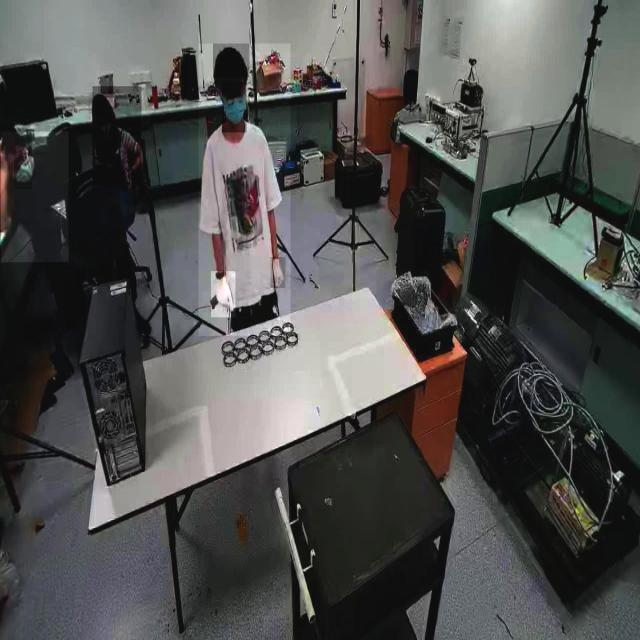face_mask: (222, 82, 246, 132), (14, 138, 32, 189)
face_nomask: (99, 118, 112, 138)
hand_glove: (210, 271, 236, 318), (270, 257, 286, 289)
hand_noglove: (123, 168, 135, 190)
head_nohelmet: (212, 44, 250, 78), (1, 124, 30, 154), (88, 92, 114, 114)
person: (198, 43, 290, 337), (1, 132, 68, 263), (92, 86, 142, 187)
